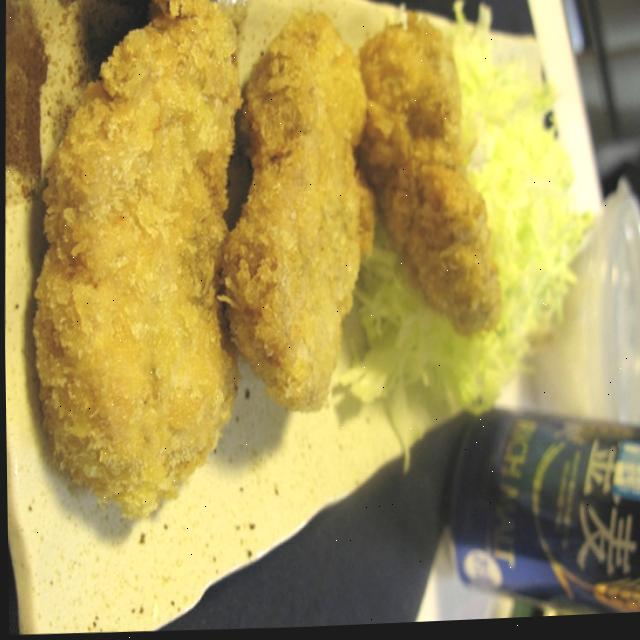牛肉菜式: (16, 0, 535, 548)
